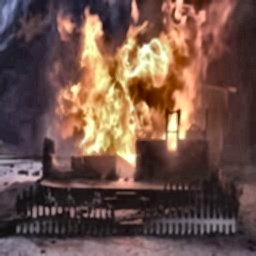fire: (45, 2, 239, 169)
